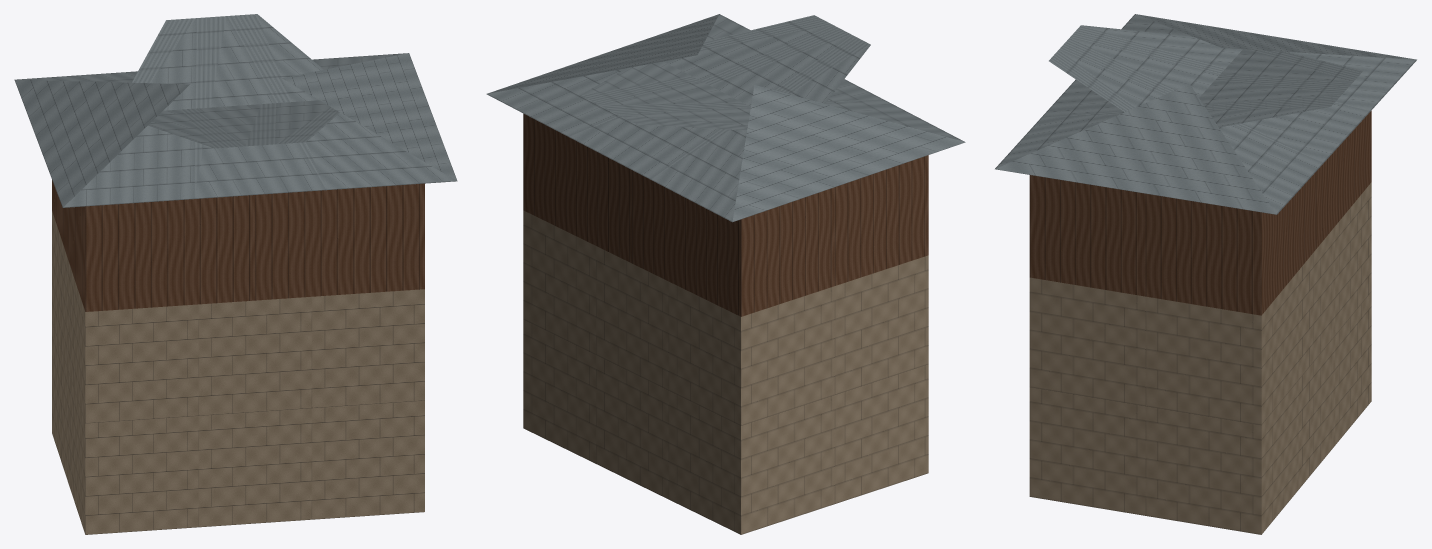
Rendered from bld_c-17_19_503.gltf.
The picture shows the model from 3 angles, left to right: view 1: azimuth 30°, elevation 25°; view 2: azimuth 150°, elevation 25°; view 3: azimuth 270°, elevation 25°; orthographic projection. The views are drawn at different scales.
Visible parts, largest first — view 1: bld_c-17_19_503; view 2: bld_c-17_19_503; view 3: bld_c-17_19_503.
Boxes of the visible parts, bbox=[...] form: bld_c-17_19_503: bbox=[14, 14, 457, 534]; bld_c-17_19_503: bbox=[486, 14, 965, 534]; bld_c-17_19_503: bbox=[995, 14, 1416, 534].
Bounding box in the file's own units: 8.88 × 7.9 × 7.9.
3 materials, 3 textured.
